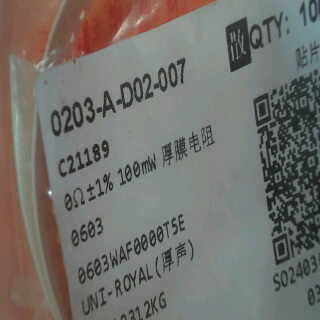0R: (60, 171, 115, 253)
